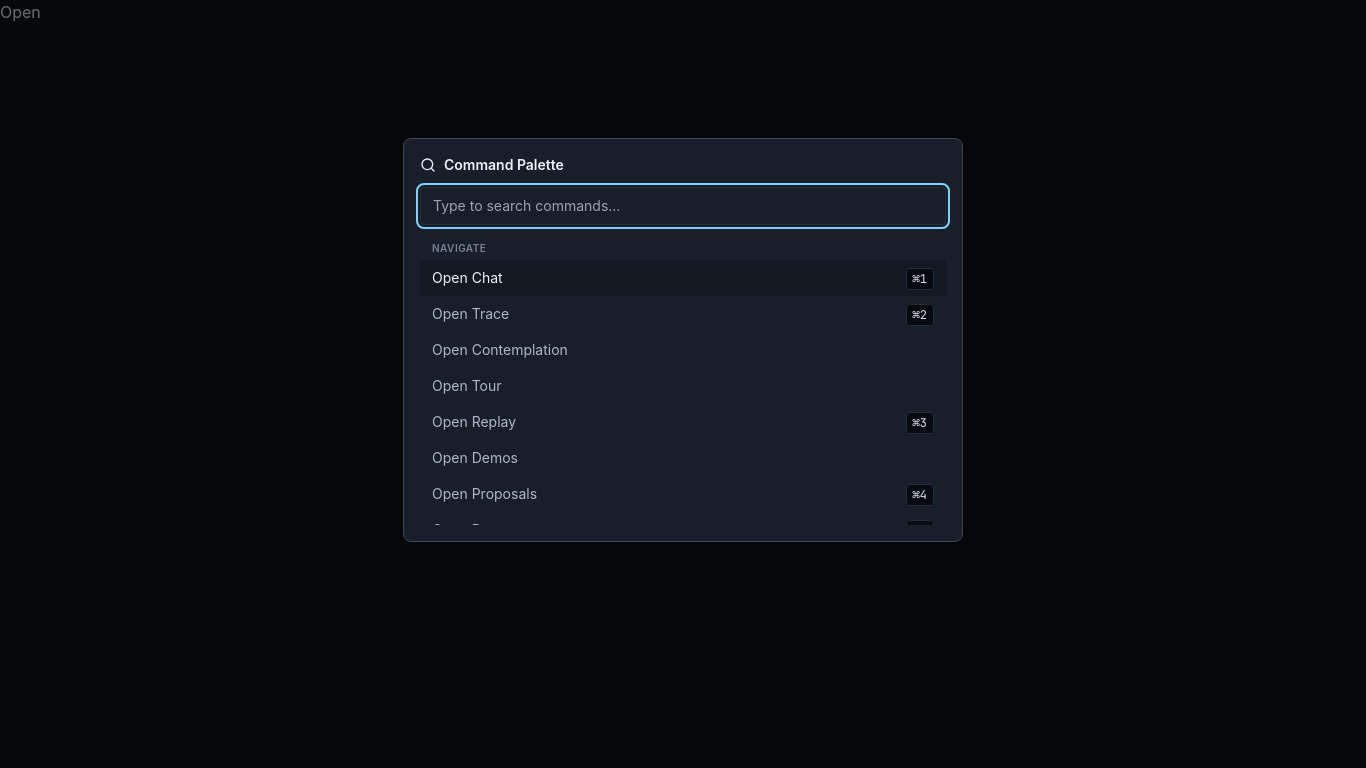
Test: CommandPalette keyboard contract › fuzzy filter: typing 'ch' shows Open Chat
In the field labelled "search commands": (683, 206) [420,187,946,225], type "ch"
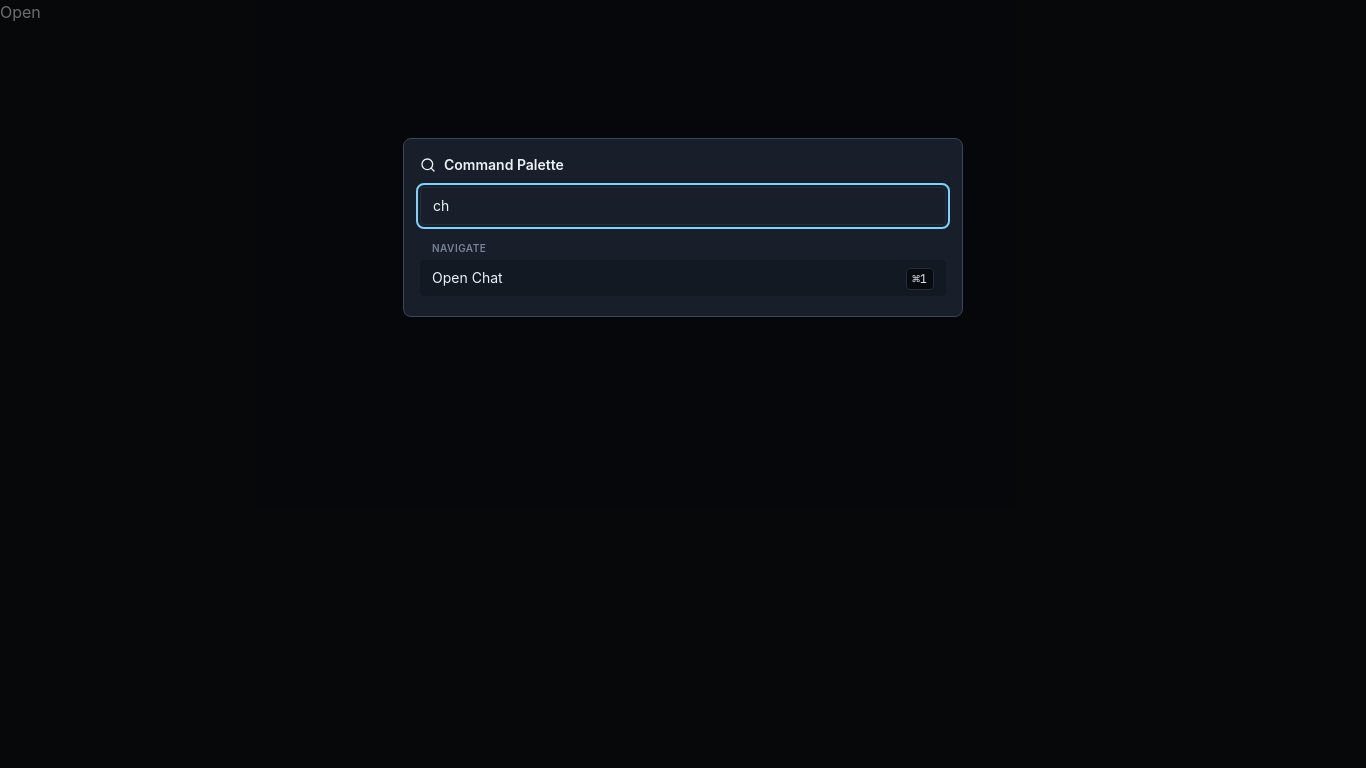
Expected: the button "Open Chat ⌘1" is shown, [420,260,946,296]
Expected: the button "Open Proposals" is gone
